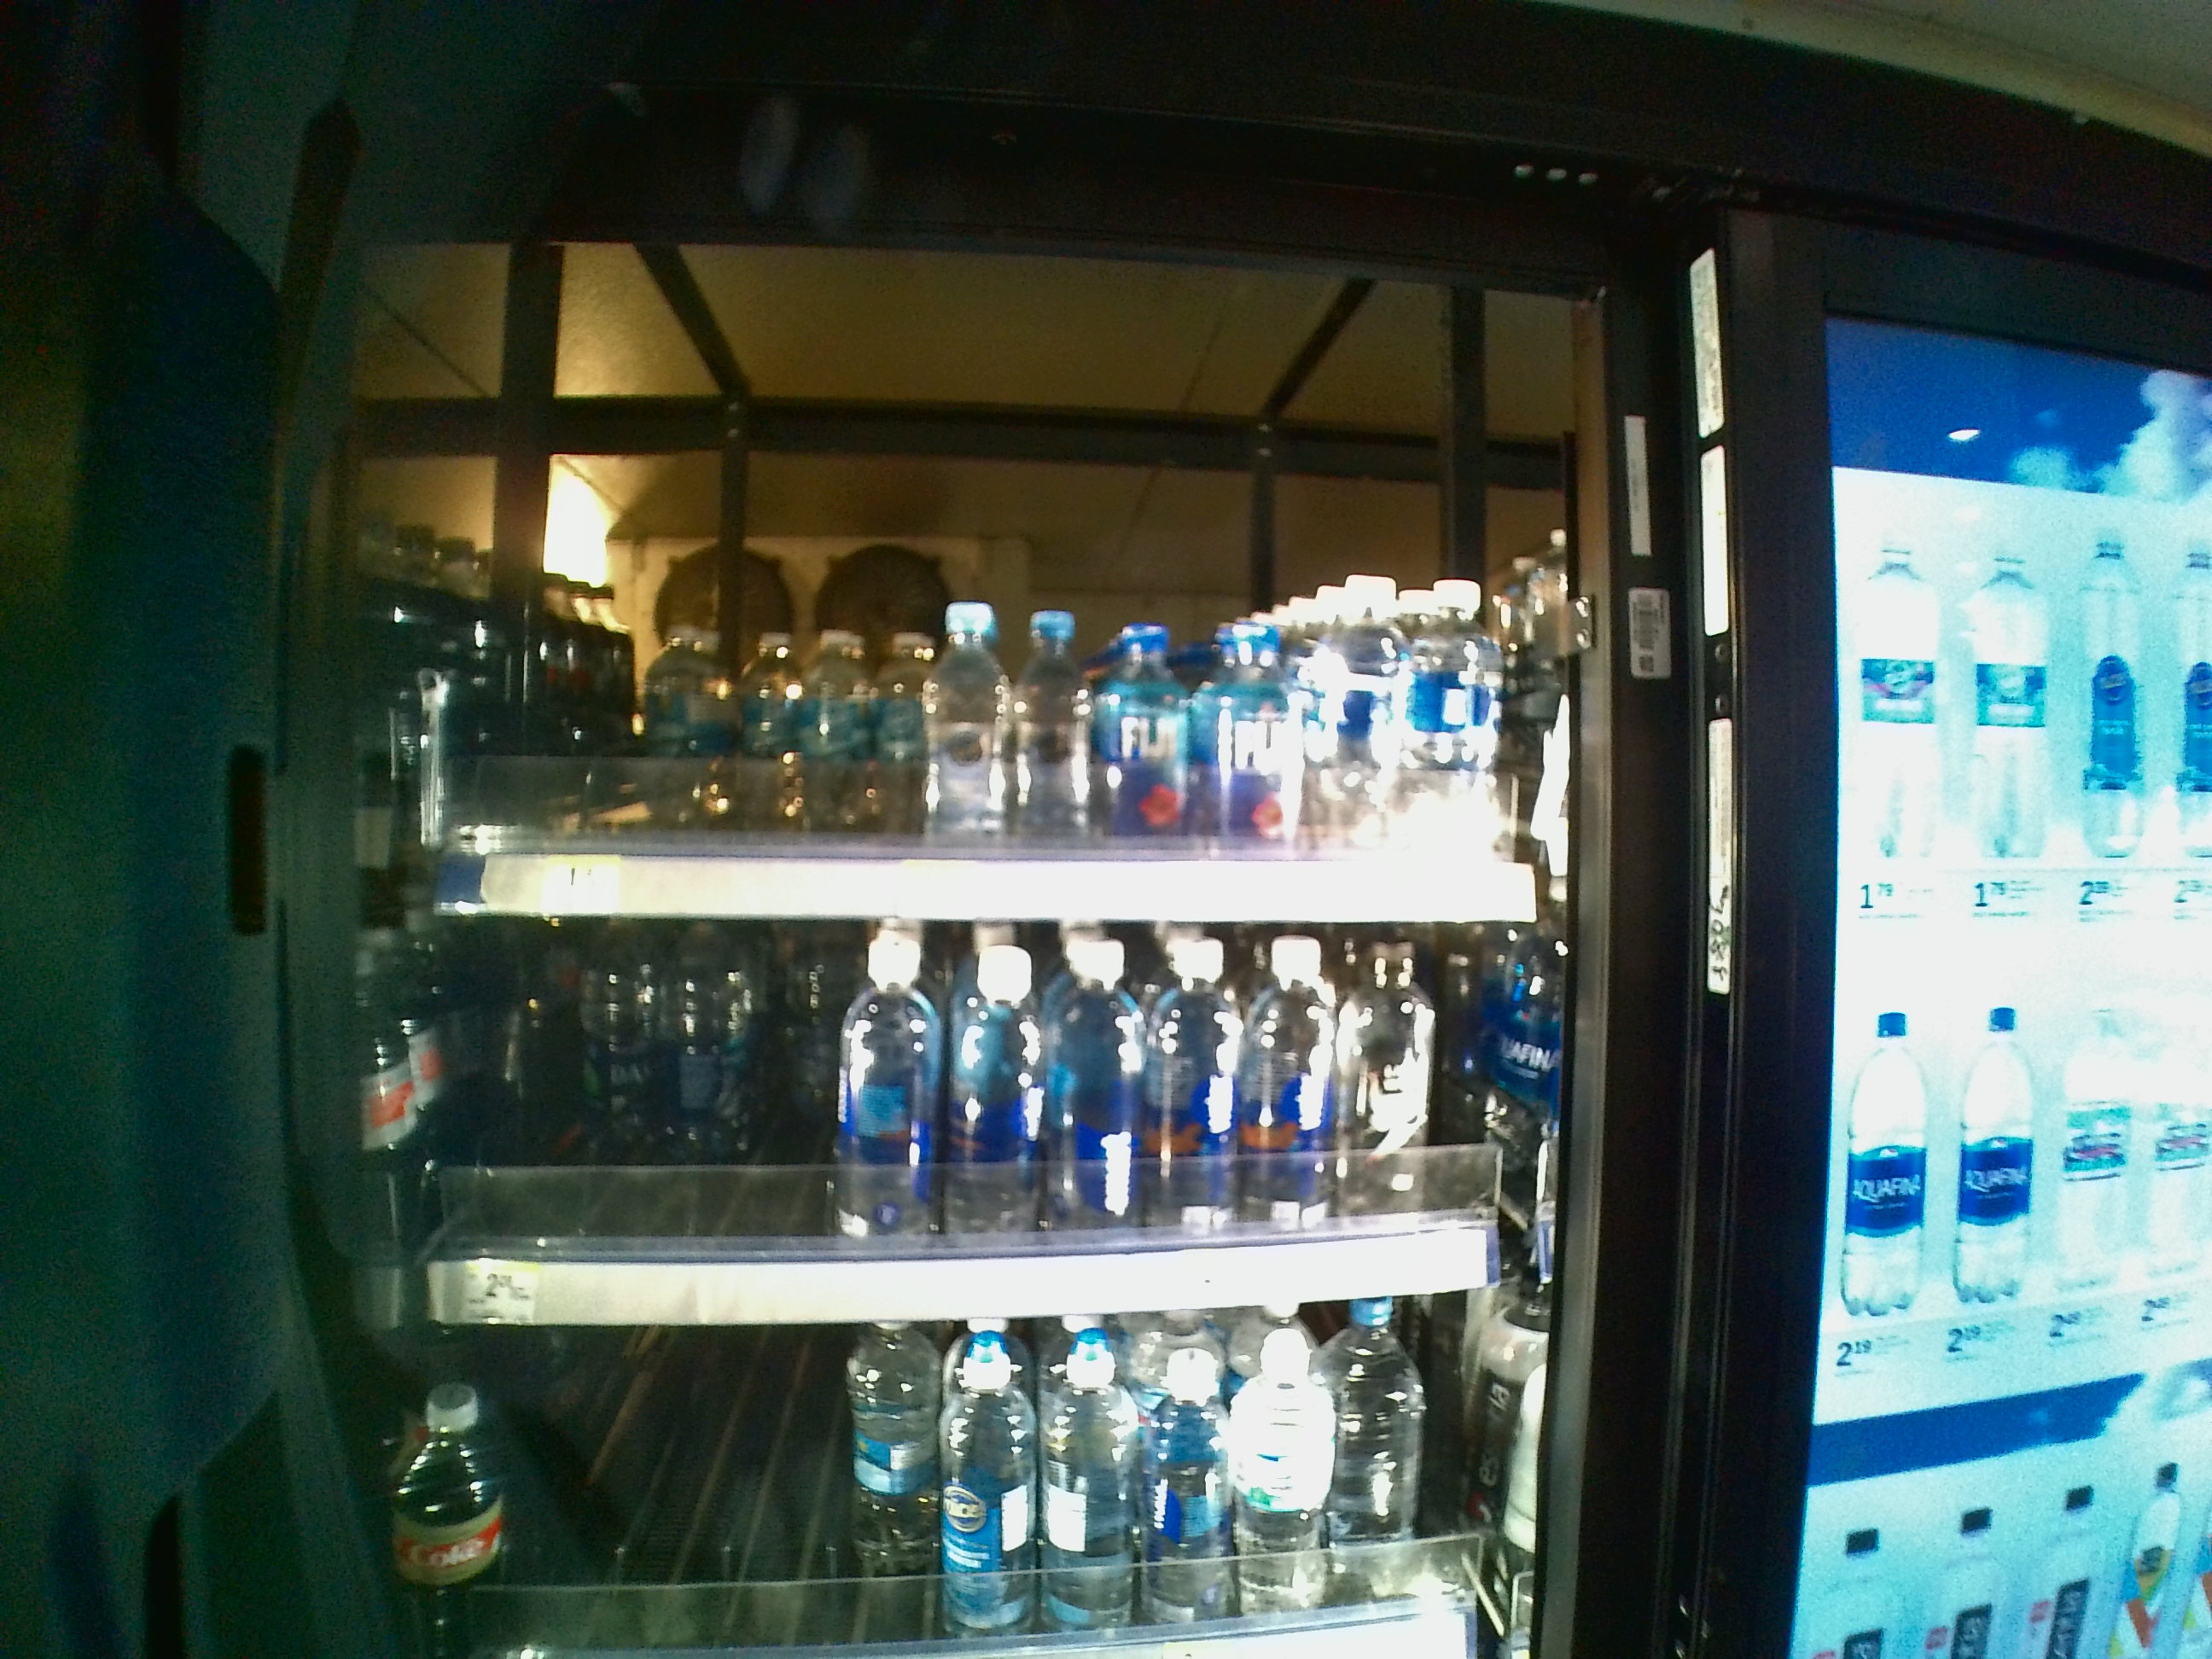Shelf: (381, 237, 1587, 924), (380, 924, 1583, 1321)
